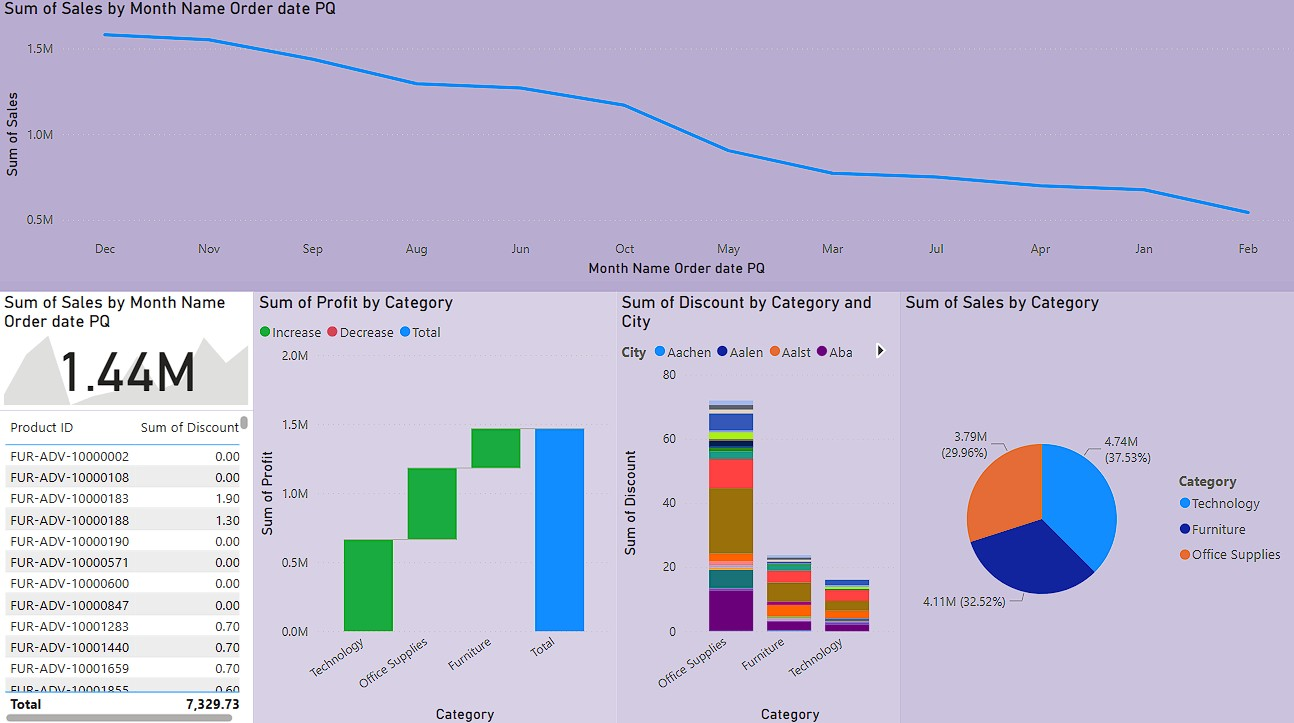

Layout of this report page (visuals, bound fields, positions):
{"tool":"powerbi","page":{"name":"RSP Report 2","canvas":[1280,720],"ordinal":2},"visuals":[{"type":"lineChart","fields":{"Category":["Orders.Month Name Order date PQ"],"Y":["Sum(Orders.Sales)"]},"box":[0,0,1280,280],"z":0},{"type":"kpi","fields":{"Indicator":["Sum(Orders.Sales)"],"TrendLine":["Orders.Month Name Order date PQ"]},"box":[0,290,251.4,117.1],"z":1000},{"type":"pieChart","fields":{"Category":["Orders.Category"],"Y":["Sum(Orders.Sales)"]},"box":[890,290,390,430],"z":2000},{"type":"tableEx","fields":{"Values":["Orders.Product ID","Sum(Orders.Discount)"]},"box":[0,407.1,251.4,312.9],"z":3000},{"type":"waterfallChart","fields":{"Y":["Sum(Orders.Profit)"],"Category":["Orders.Category"]},"box":[251.4,290,358.6,430],"z":4000},{"type":"lineStackedColumnComboChart","fields":{"Y":["Sum(Orders.Discount)"],"Category":["Orders.Category"],"Series":["Orders.City"]},"box":[610,290,280,430],"z":5000}]}

Visuals, with their boxes in screenshot pixels (x1, y1, x2, y2), scaled from the page's 1280x720 canvas onto the 1294x723 screenshot:
lineChart - Orders.Month Name Order date PQ x Sum(Orders.Sales): bbox=[0, 0, 1293, 281]
kpi - Sum(Orders.Sales) x Orders.Month Name Order date PQ: bbox=[0, 291, 254, 409]
pieChart - Orders.Category x Sum(Orders.Sales): bbox=[900, 291, 1293, 722]
tableEx - Orders.Product ID x Sum(Orders.Discount): bbox=[0, 409, 254, 722]
waterfallChart - Sum(Orders.Profit) x Orders.Category: bbox=[254, 291, 617, 722]
lineStackedColumnComboChart - Sum(Orders.Discount) x Orders.Category: bbox=[617, 291, 900, 722]
